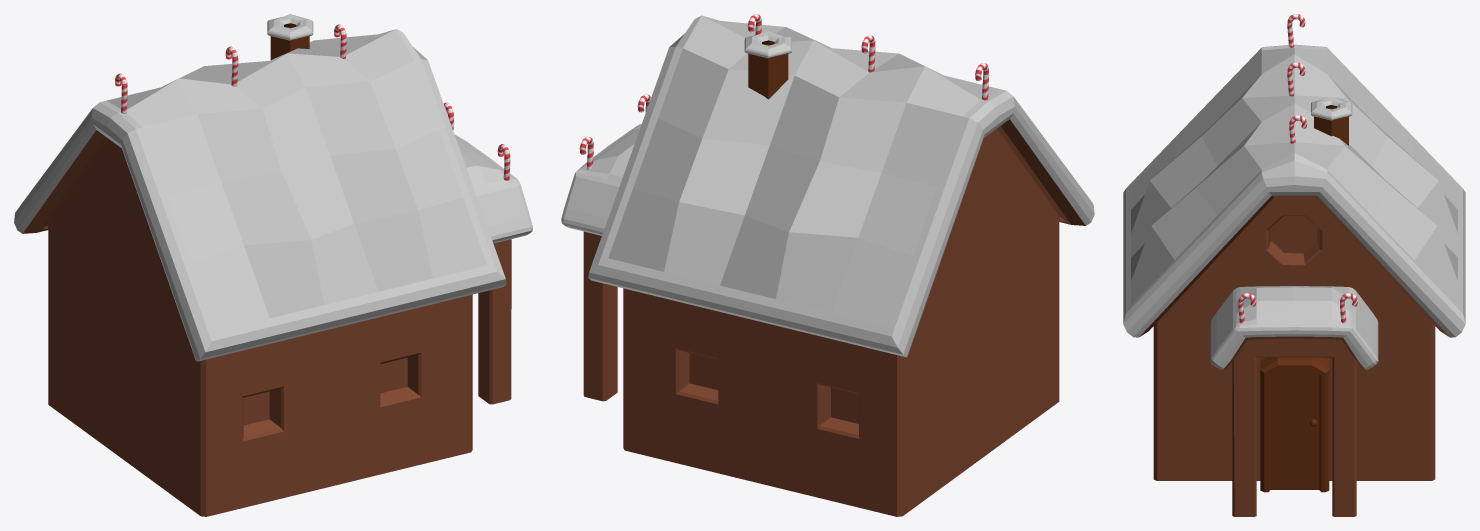
Rendered from cas.fbx.
3 views of the same model, side by side, from view 1: azimuth 30°, elevation 25°; view 2: azimuth 150°, elevation 25°; view 3: azimuth 270°, elevation 25° (orthographic). The views are drawn at different scales.
Visible parts, largest first — view 1: casa; view 2: casa; view 3: casa.
Boxes of the visible parts, x1,y1,x2,y2 form: casa: (14, 14, 532, 516); casa: (561, 14, 1094, 516); casa: (1123, 14, 1465, 516).
Size of the model in its own units: 1960 by 1896 by 1694.
